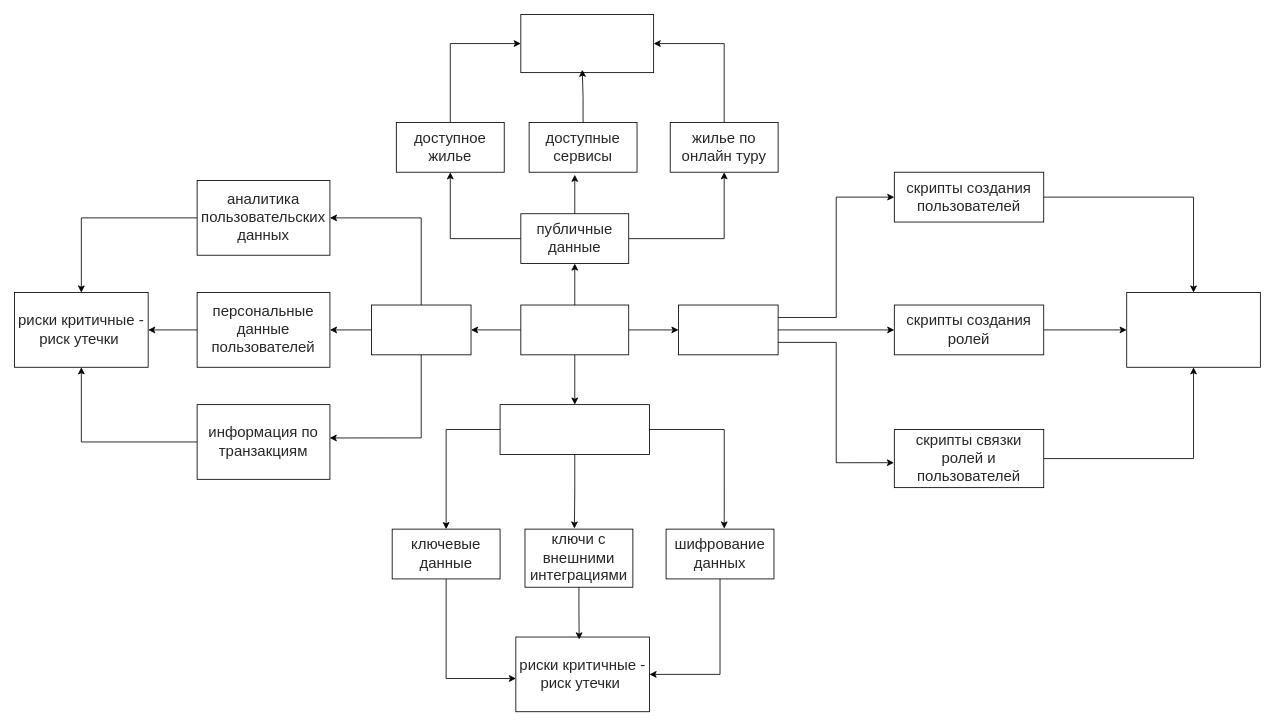
This 1275x726 diagram has some shape labels left out. Each missing label, with the centre of its shape:
"Безопасность данных" belongs at [574,329].
"внутренние данные" belongs at [728,329].
"искажение данных - риски незначительные" belongs at [587,43].
"конфиденциальные данные" belongs at [574,429].
"риски значительные - искажение и утечка" belongs at [1193,329].
"секретные данные" belongs at [421,329].
